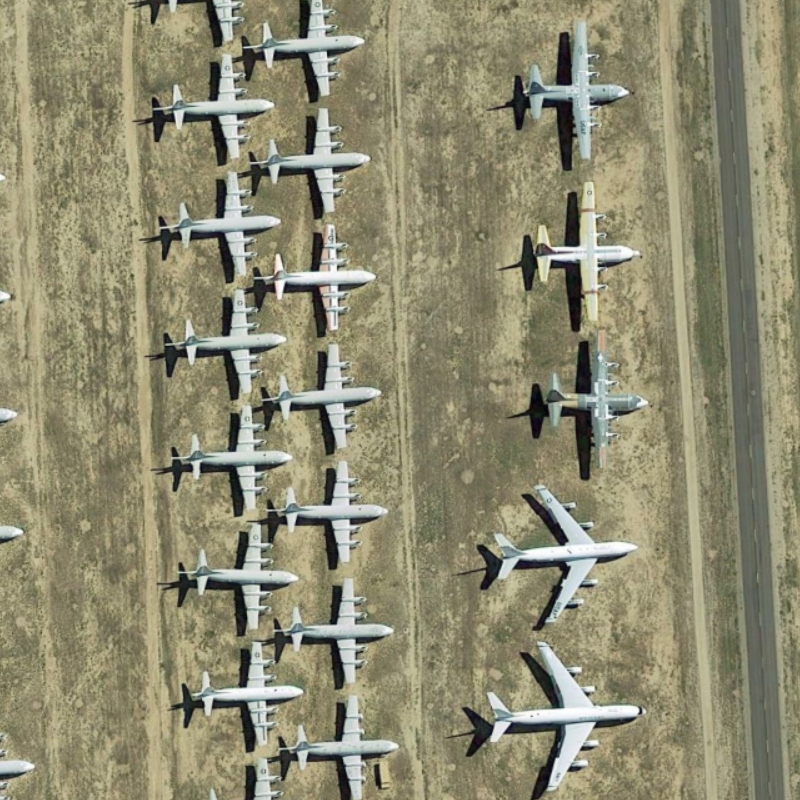A11: (475, 633, 655, 797), (470, 475, 640, 631)
A2: (519, 171, 651, 335), (509, 15, 637, 162), (537, 322, 648, 475)
A9: (242, 101, 385, 217), (257, 337, 398, 454), (155, 277, 289, 399), (152, 162, 287, 283), (141, 48, 276, 166), (264, 574, 399, 691), (257, 459, 401, 567), (170, 392, 292, 517), (176, 637, 305, 754), (175, 522, 305, 635), (253, 222, 385, 333), (284, 686, 399, 800), (244, 1, 372, 102)
